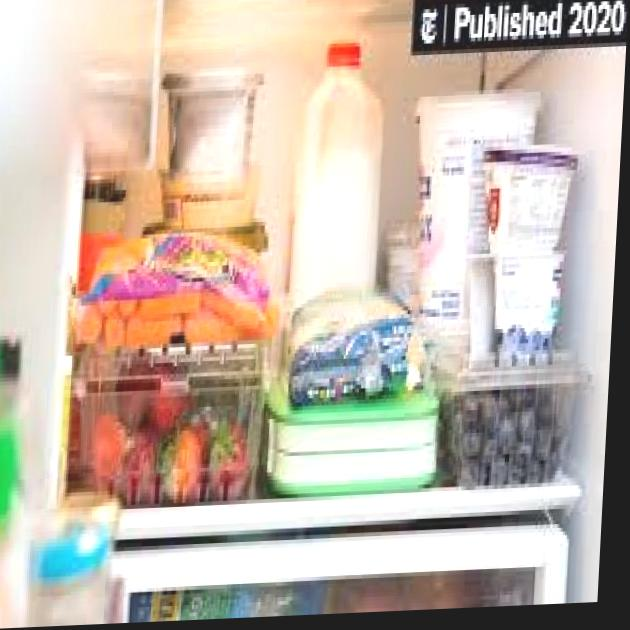blueberries: (442, 360, 578, 494)
carrots: (73, 205, 282, 373)
milk: (271, 0, 402, 295)
strawberries: (77, 331, 268, 523)
